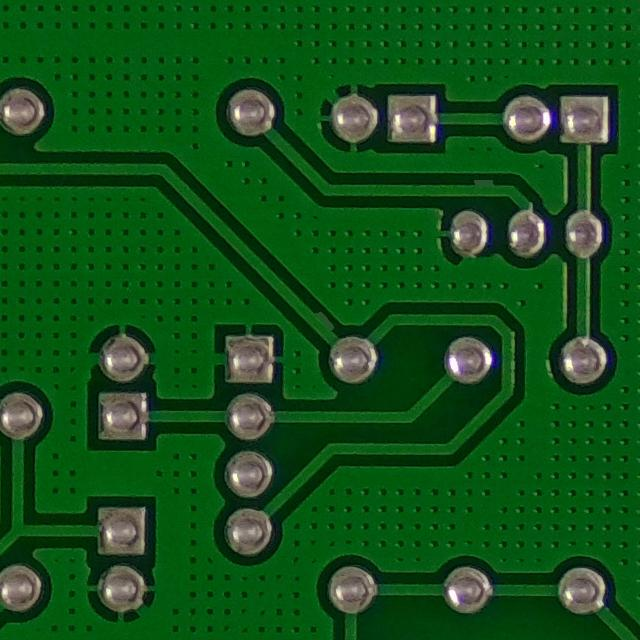spur: (297, 297, 343, 344)
